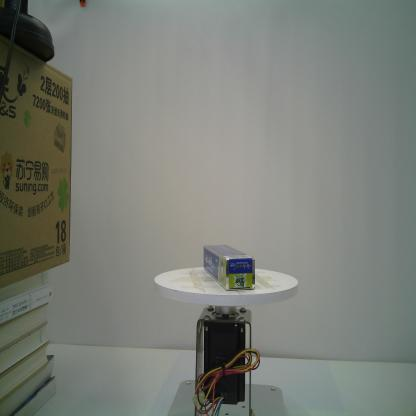Personal Hygiene: (204, 244, 256, 291)
